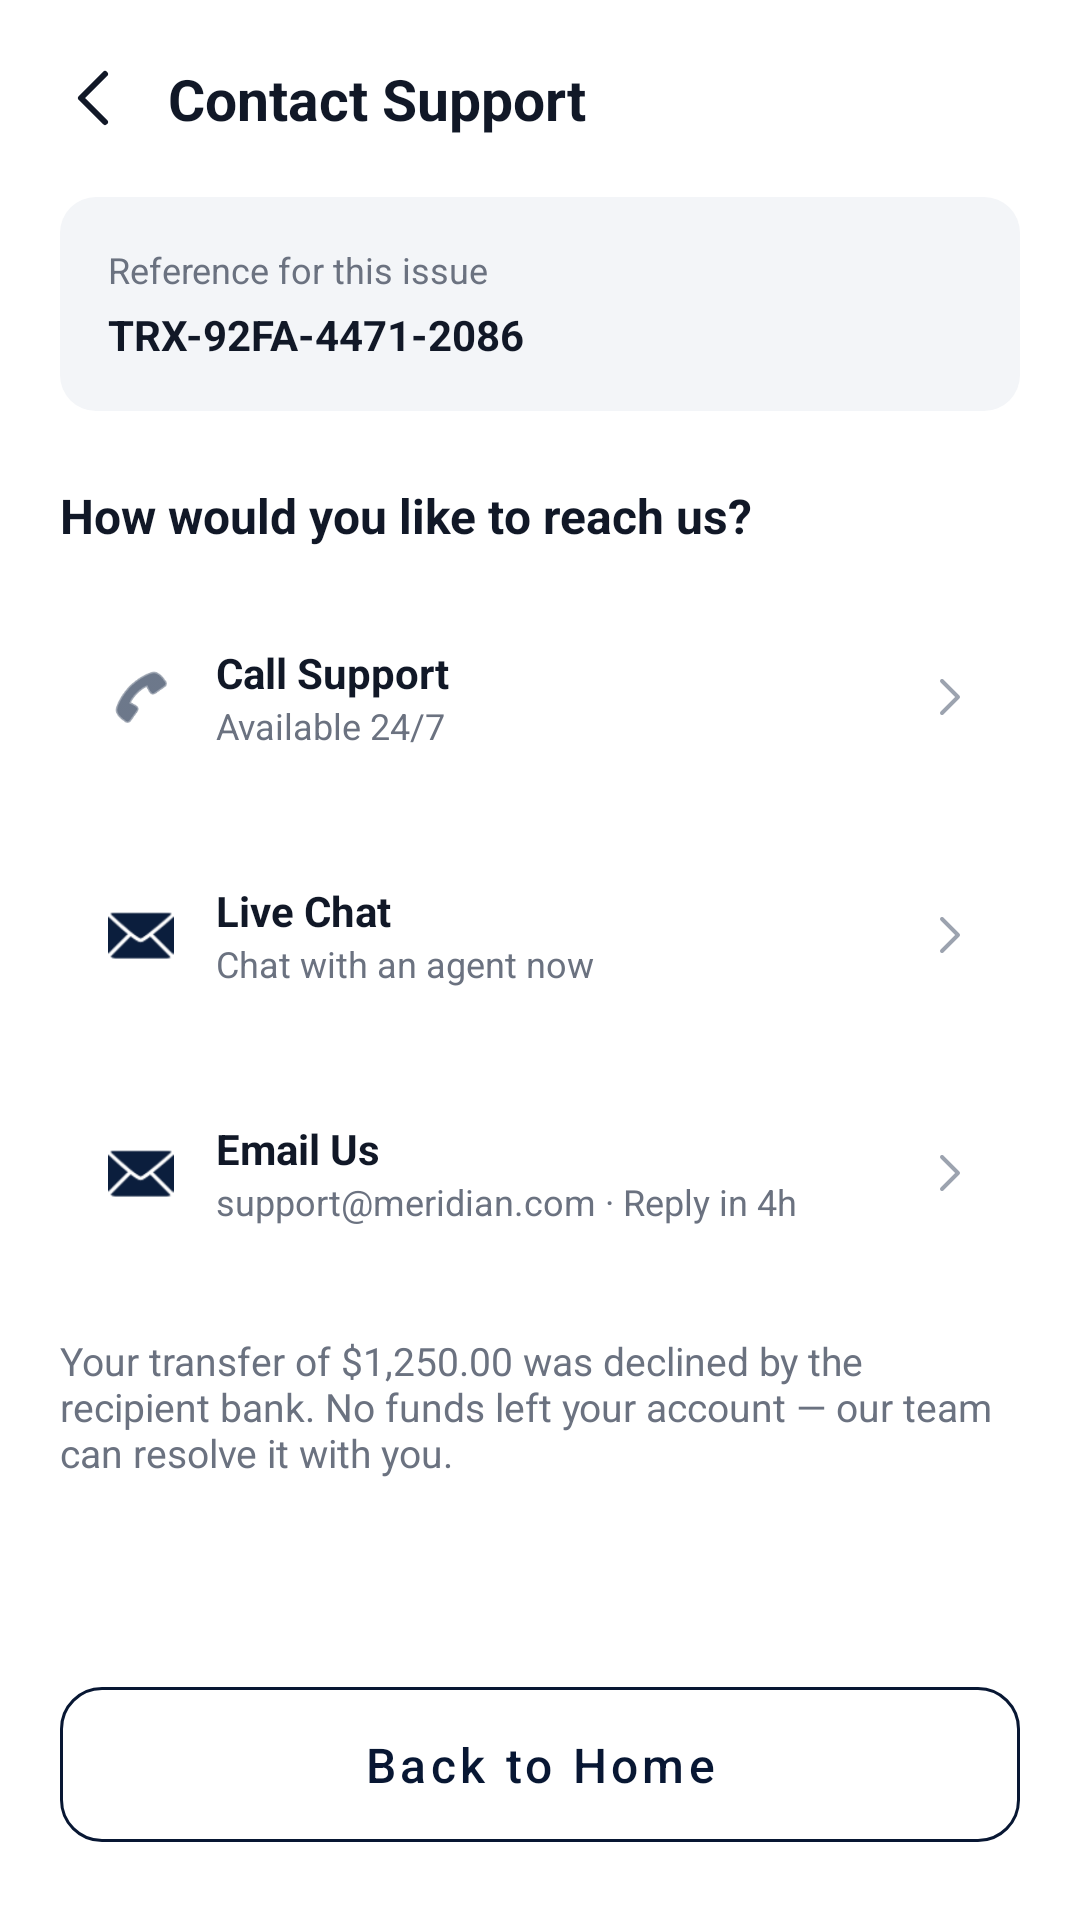

Icons on this 1080x1920 Android screen, each with its box as (x1, y1, x2, y2):
chevron left: (78, 70, 108, 125)
chevron right: (940, 679, 960, 715), (940, 917, 960, 953), (940, 1155, 960, 1191)
